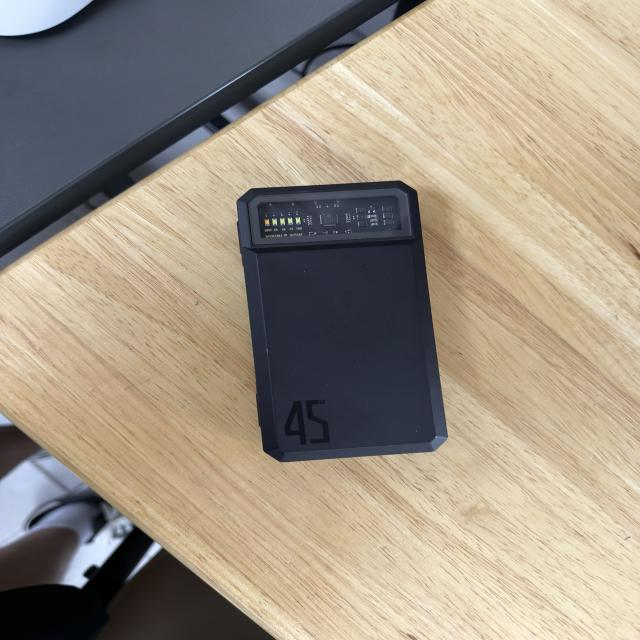power bank: (227, 178, 455, 466)
